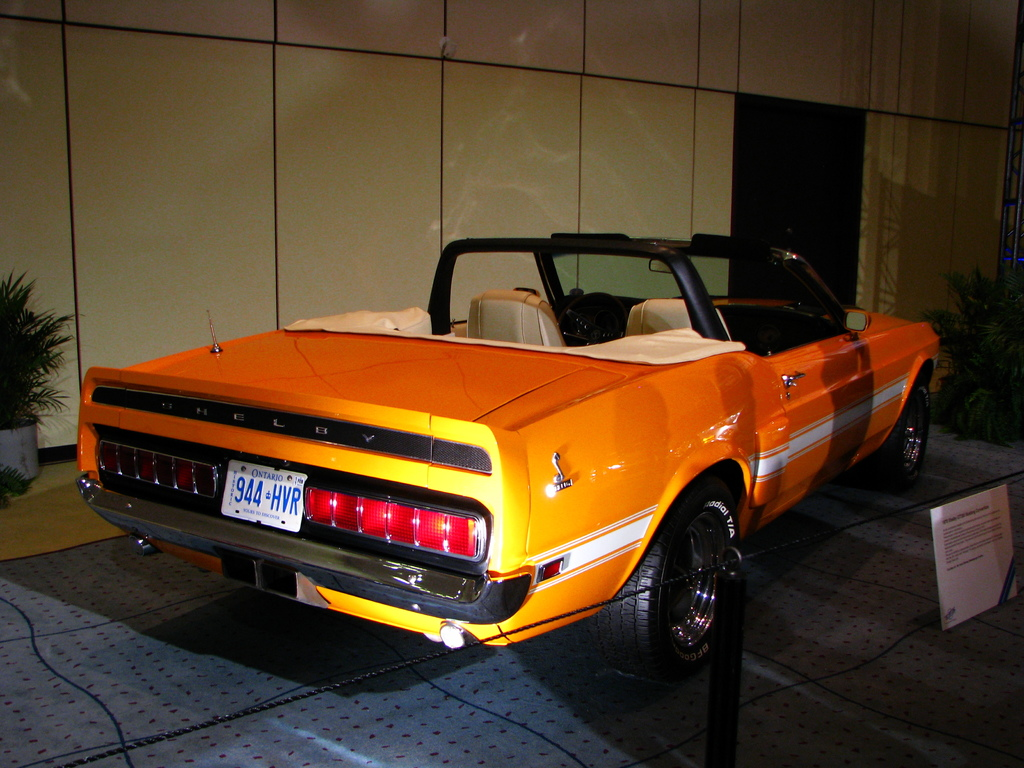mobil: (71, 136, 969, 681)
